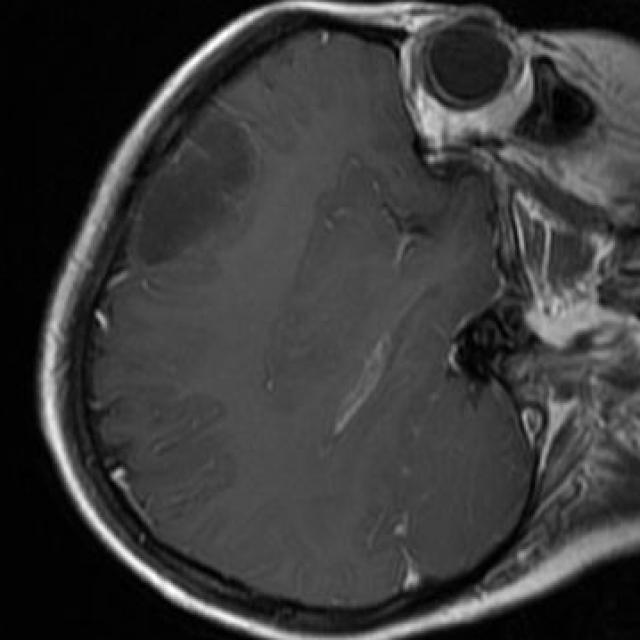glioma: (127, 119, 253, 266)
